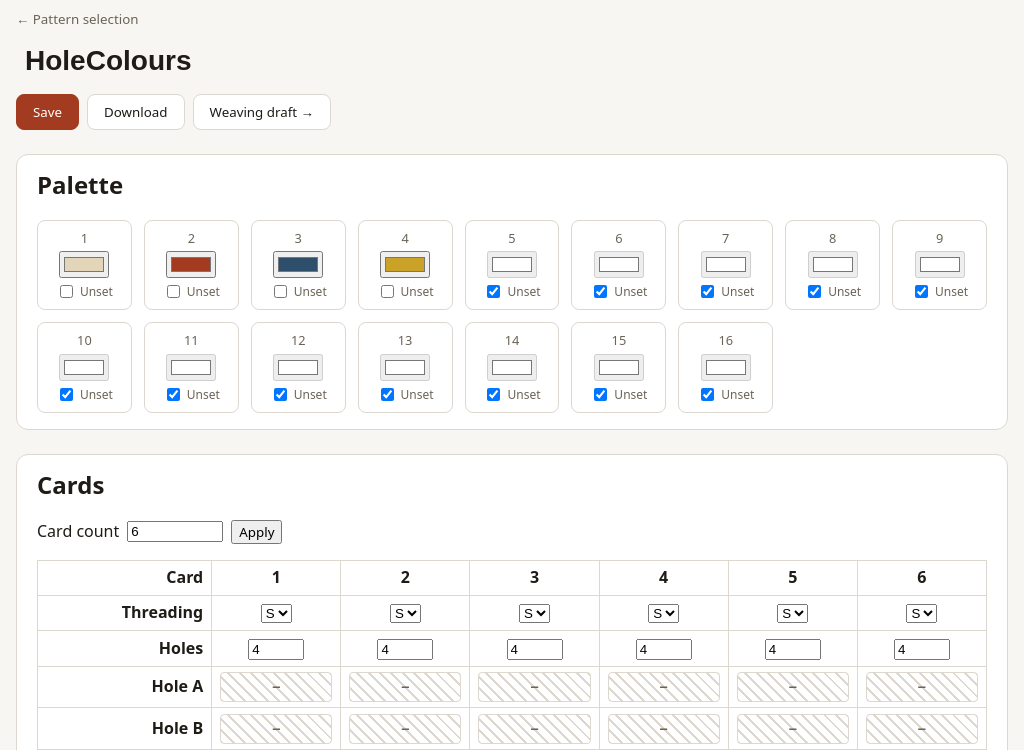
Test: EditPatternPage › the hole colour picker shows the palette with its colours and assigns the chosen one
Expected: the field showing "HoleColours" is shown, [16,40,1008,82]
Step 1. Click the button named "Card 1 hole A colour" → point(276, 687), box [220,672,332,702]
(page scrolled)
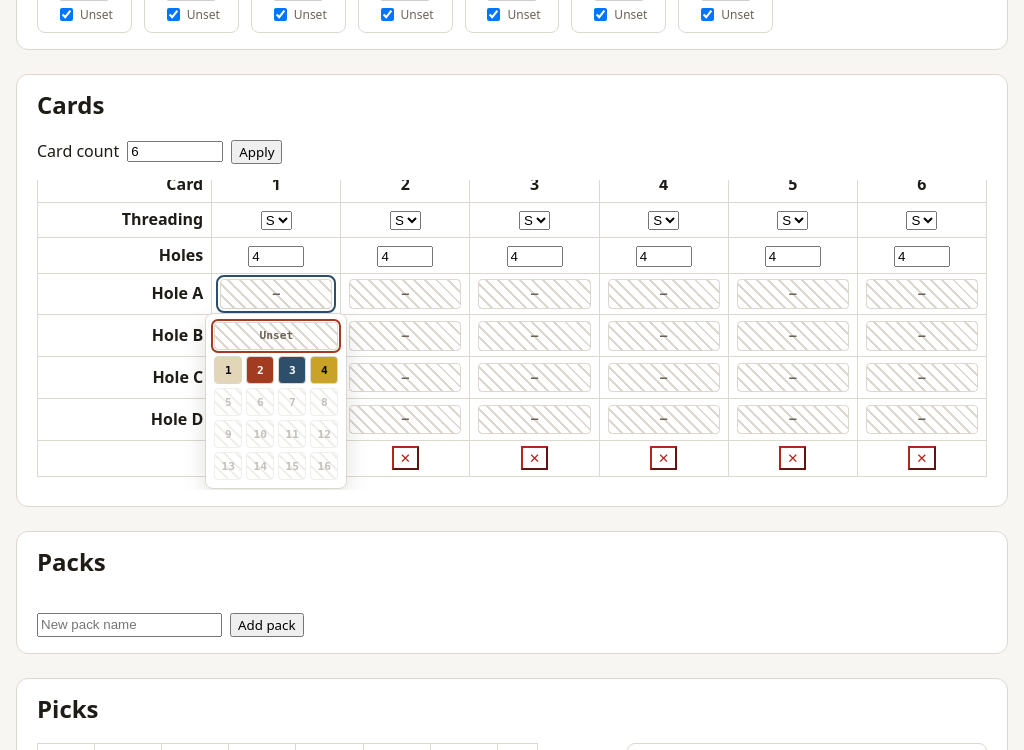
Expected: the list is shown, [205,313,347,489]
Expected: the number of options is 17
Expected: the option named "Select palette colour 5" is disabled, [214,388,242,416]
Step 2. Click the option named "Select palette colour 3" → point(292, 370), box [278,356,306,384]
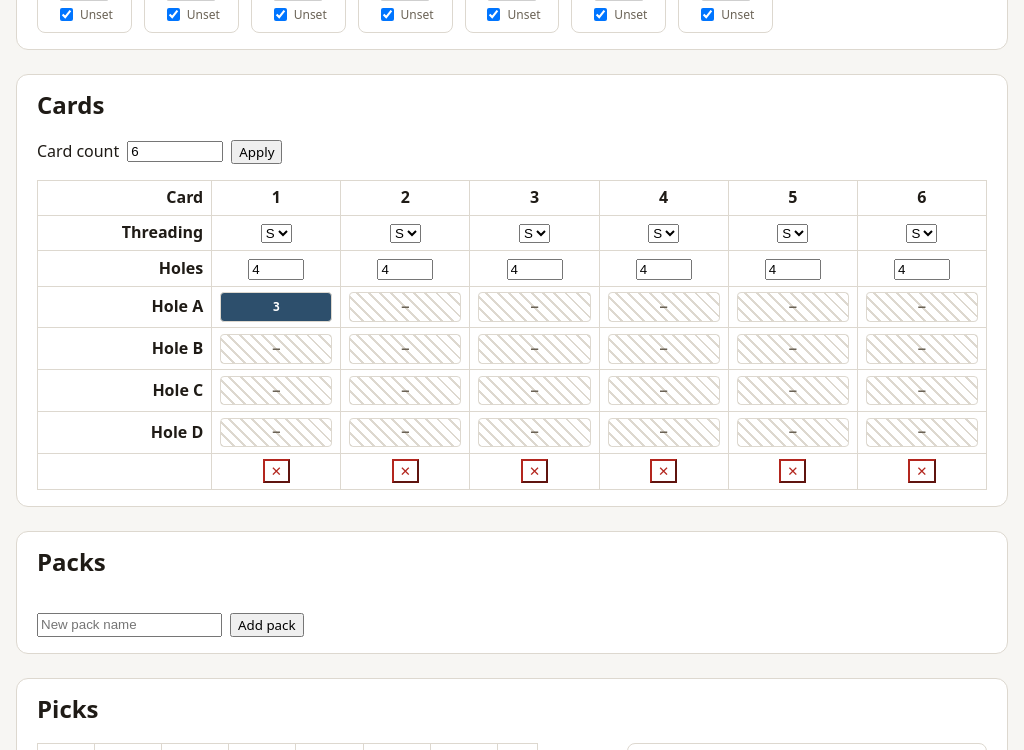
Expected: the button named "Card 2 hole A colour" reads "–", [349,292,461,322]
Expected: the button named "Card 1 hole A colour" reads "3", [220,292,332,322]
Expected: the list is gone
